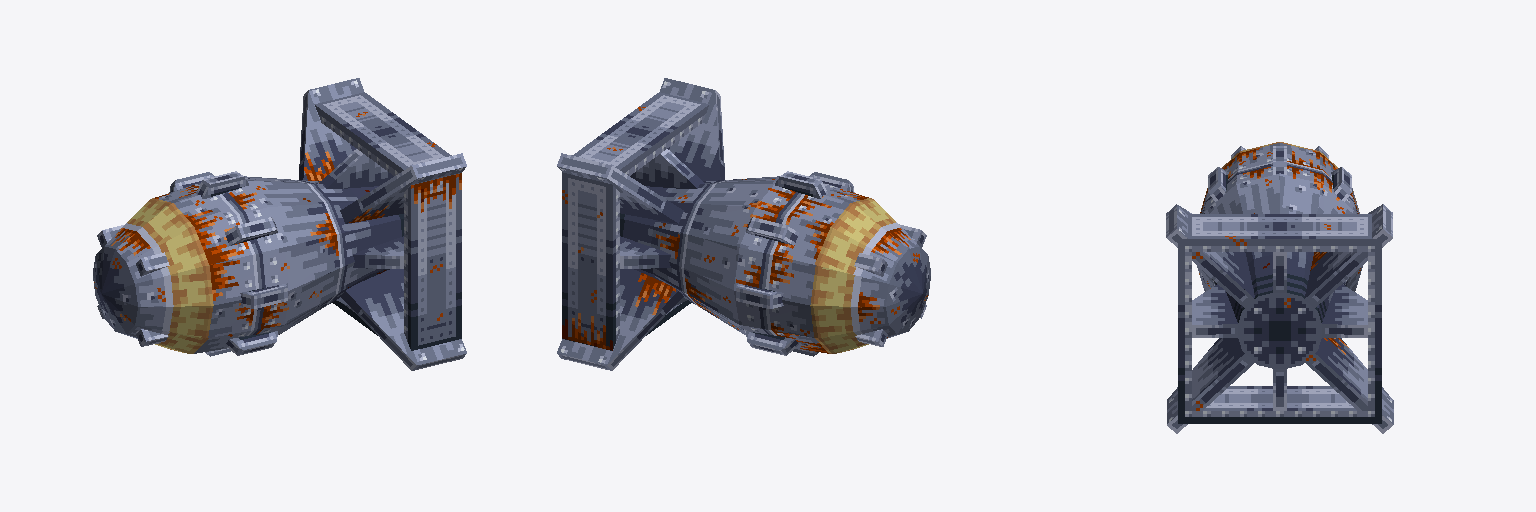
3 renders of one model, left to right at view 1: azimuth 30°, elevation 25°; view 2: azimuth 150°, elevation 25°; view 3: azimuth 270°, elevation 25°, orthographic.
Parts seen in each view (by area): view 1: sphere, back, backclapm, clamp, bracing; view 2: sphere, back, backclapm, clamp, bracing; view 3: back, backclapm, sphere, clamp.
Boxes of the visible parts, x1=… form: sphere: x1=93, y1=176, x2=403, y2=353; back: x1=314, y1=92, x2=461, y2=350; backclapm: x1=299, y1=78, x2=466, y2=370; clamp: x1=169, y1=171, x2=287, y2=356; bracing: x1=97, y1=225, x2=169, y2=346; sphere: x1=620, y1=176, x2=930, y2=353; back: x1=562, y1=92, x2=709, y2=350; backclapm: x1=557, y1=78, x2=724, y2=370; clamp: x1=736, y1=171, x2=854, y2=356; bracing: x1=854, y1=224, x2=926, y2=346; back: x1=1178, y1=214, x2=1381, y2=423; backclapm: x1=1166, y1=204, x2=1393, y2=433; sphere: x1=1197, y1=142, x2=1362, y2=368; clamp: x1=1208, y1=146, x2=1351, y2=201.
Size of the model in its own units: 3.06 by 1.95 by 1.95.
Materials: 1 (1 with a texture image).